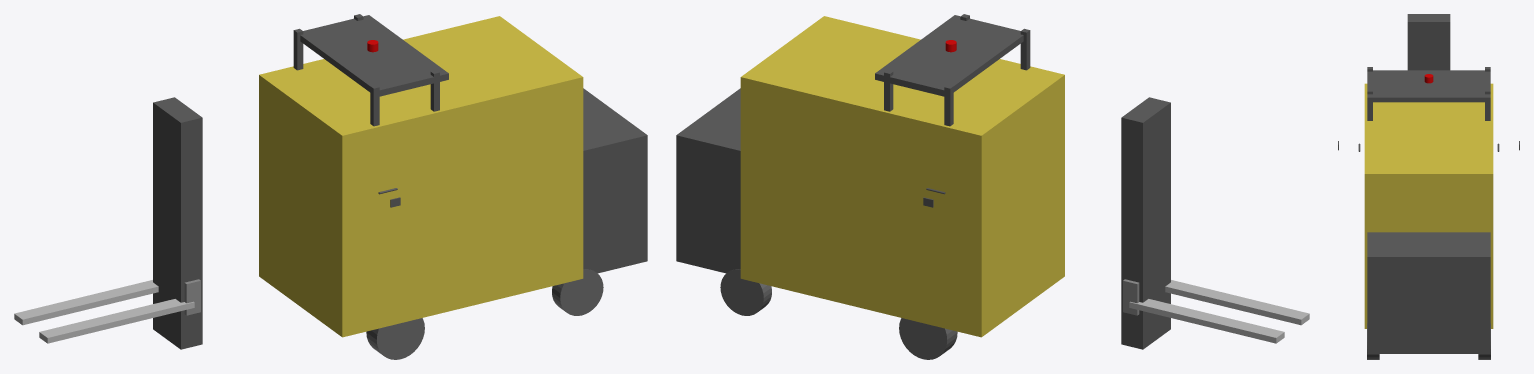
The model's file is forklift-counterbalance-2.5t.glb.
The picture shows the model from 3 angles, left to right: view 1: azimuth 30°, elevation 25°; view 2: azimuth 150°, elevation 25°; view 3: azimuth 270°, elevation 25°; orthographic projection. The views are drawn at different scales.
Parts seen in each view (by area): view 1: body, mast_outer, counterweight, roof, fork_0, fork_1, front_wheel_0, rear_wheel_0, carriage; view 2: body, mast_outer, counterweight, roof, fork_1, fork_0, front_wheel_1, rear_wheel_1, carriage; view 3: body, counterweight, roof, mast_outer.
Part boxes in pixels (x1,y1,x2,y2): body: (259,16,583,337); mast_outer: (153,97,202,349); counterweight: (583,88,647,273); roof: (300,15,448,97); fork_0: (39,299,194,343); fork_1: (14,280,158,325); front_wheel_0: (366,318,424,359); rear_wheel_0: (552,269,603,315); carriage: (184,279,200,315); body: (740,16,1064,337); mast_outer: (1121,97,1170,349); counterweight: (676,88,740,273); roof: (875,15,1023,97); fork_1: (1129,299,1284,343); fork_0: (1165,280,1309,325); front_wheel_1: (899,318,957,359); rear_wheel_1: (720,269,771,315); carriage: (1123,279,1139,315); body: (1364,83,1493,328); counterweight: (1367,232,1490,353); roof: (1367,70,1490,102); mast_outer: (1407,14,1450,70).
Bounding box in the file's own units: 4790 × 2260 × 1700.
